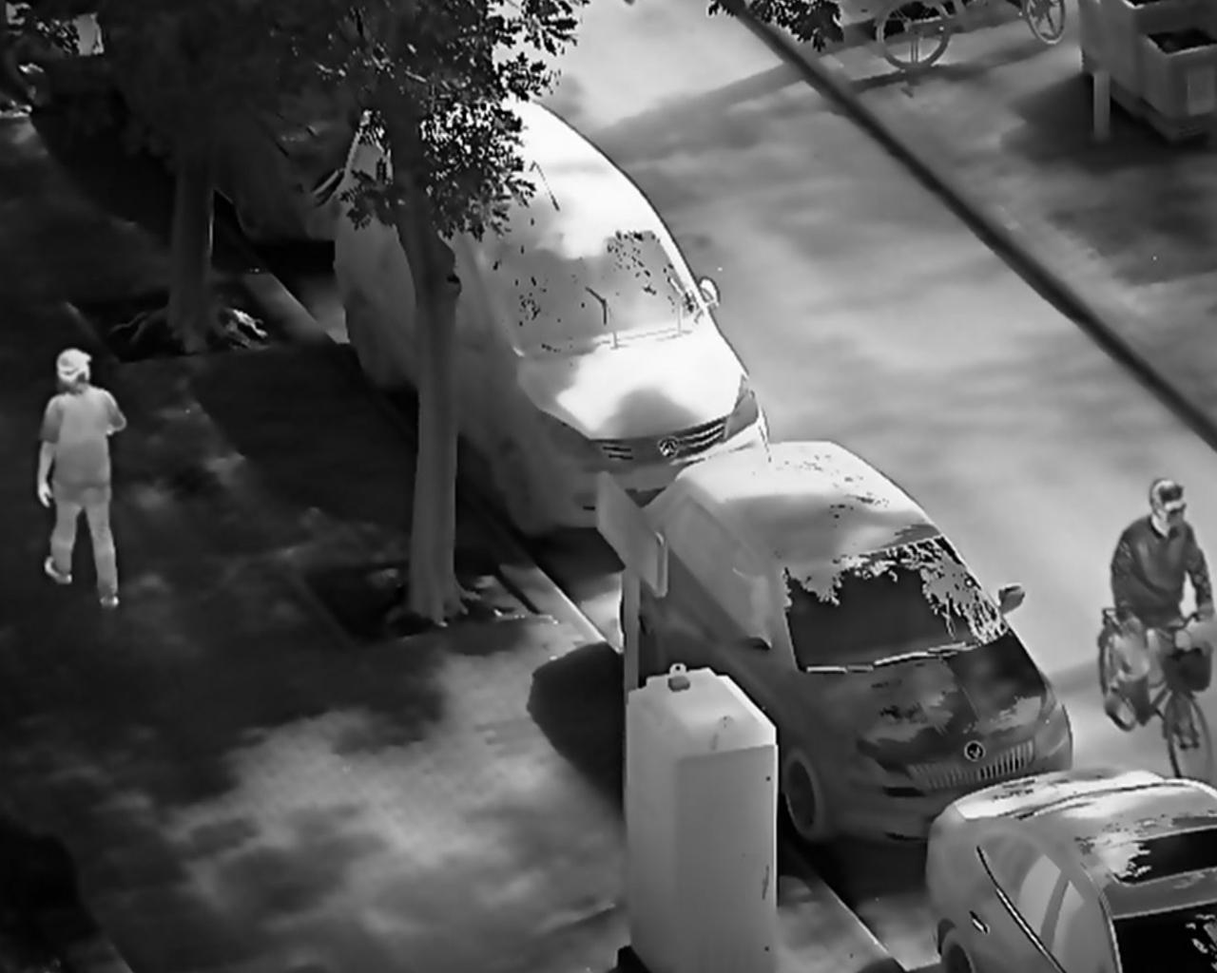person: (1107, 472, 1217, 734), (33, 346, 129, 610)
